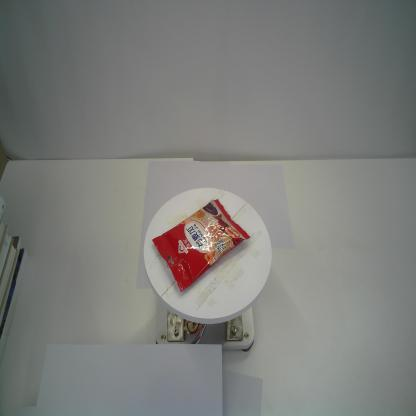Instant Drink: (152, 196, 252, 296)
